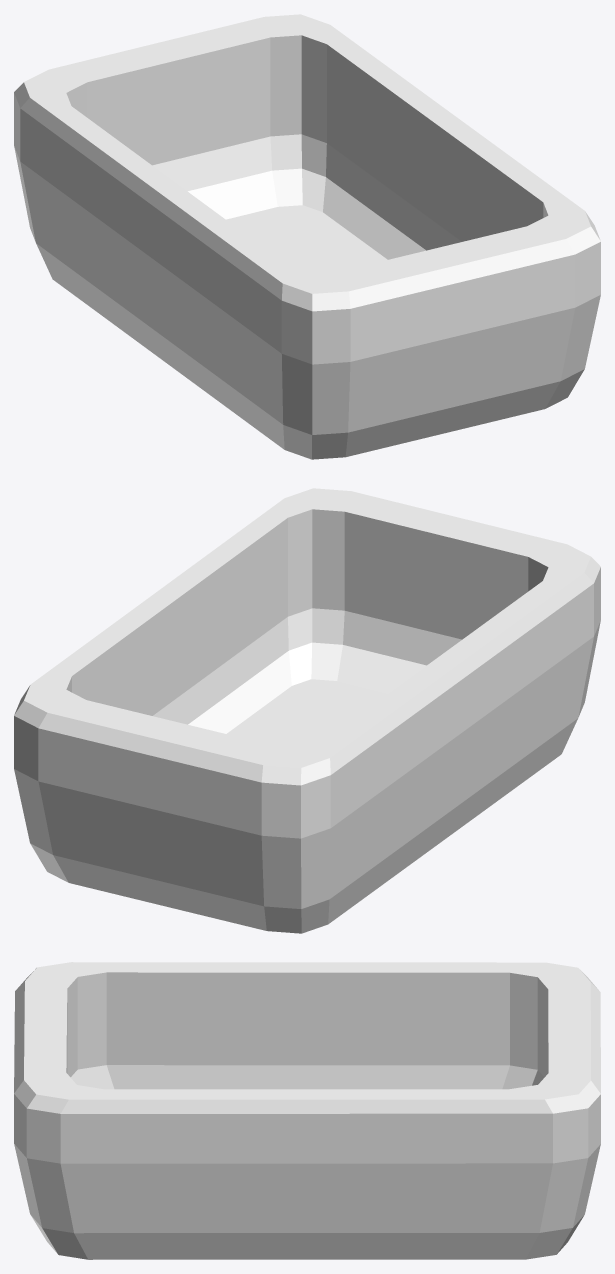
File: bathtub.obj
The picture shows the model from 3 angles, top to bottom: view 1: azimuth 30°, elevation 25°; view 2: azimuth 150°, elevation 25°; view 3: azimuth 270°, elevation 25°; orthographic projection. The views are drawn at different scales.
Parts seen in each view (by area): view 1: Plane_Plane.001; view 2: Plane_Plane.001; view 3: Plane_Plane.001.
Part boxes in pixels (x1,y1,x2,y2): Plane_Plane.001: [14, 14, 600, 459]; Plane_Plane.001: [14, 488, 600, 933]; Plane_Plane.001: [14, 962, 600, 1259].
Bounding box in the file's own units: 3.56 × 1.93 × 6.2.
